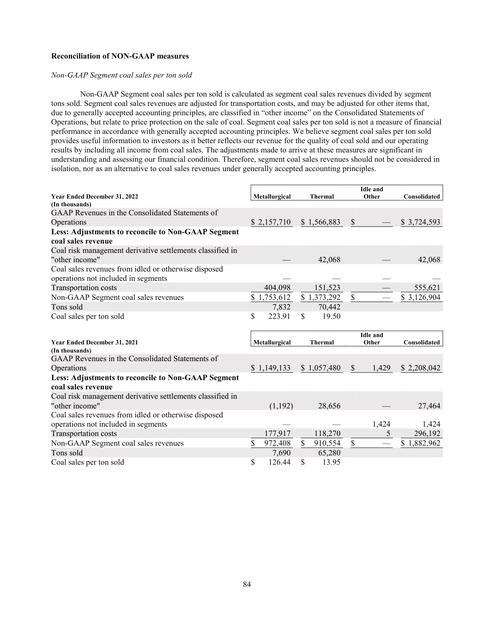box: (48, 184, 445, 471)
